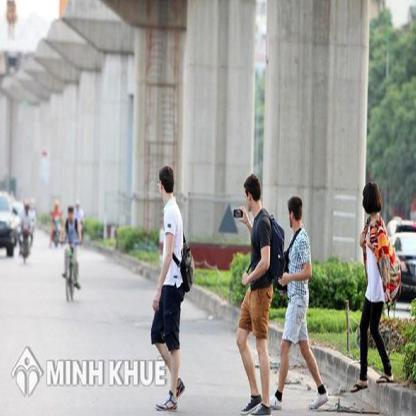person: (236, 174, 277, 415), (150, 166, 188, 412), (279, 195, 316, 412), (355, 182, 394, 385)
